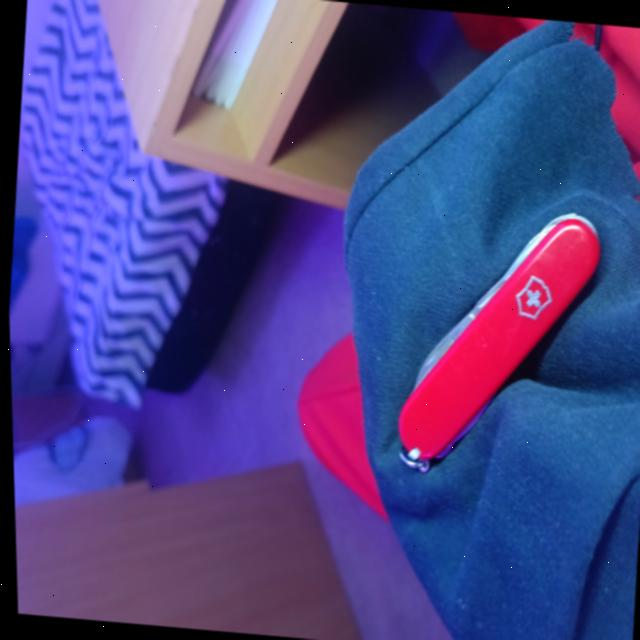knife victorinox: (396, 212, 598, 470)
